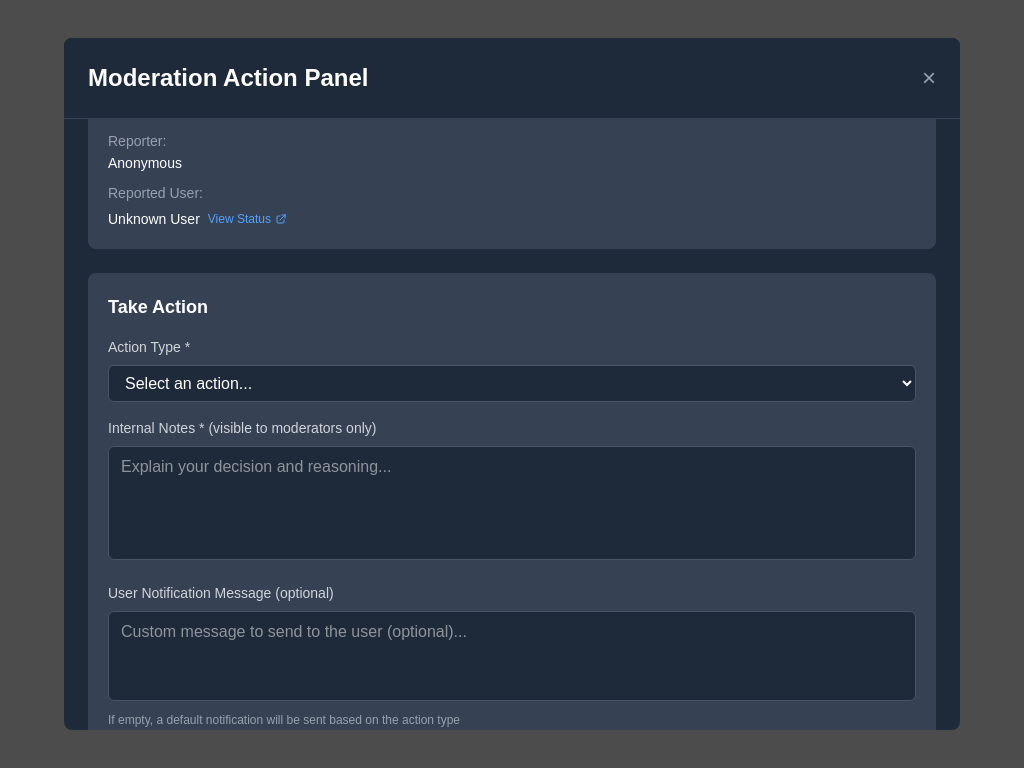
Test: ModerationActionPanel › Form Validation › should require internal notes
This screenshot has width=1024, height=768.
(page scrolled)
// Select an action
Select "Warn User" in the dropdown labelled "Action Type *": (512, 384) [108,365,916,402]
(page scrolled)
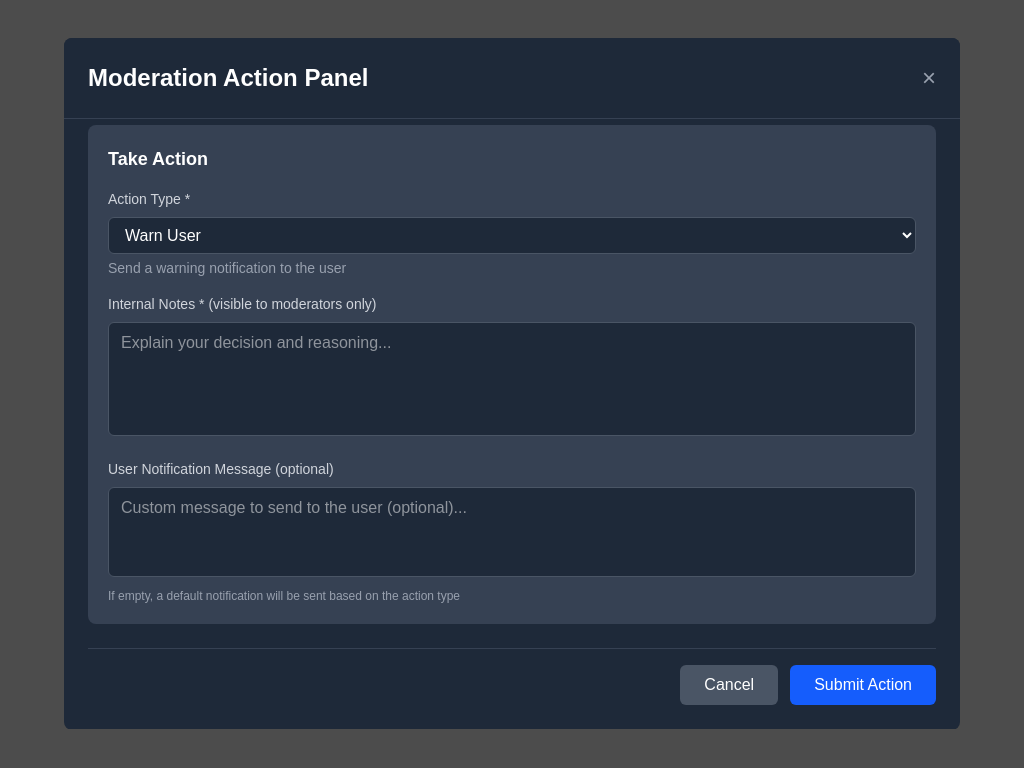
Click the button "Submit Action": (863, 685) [790,665,936,705]
(page scrolled)
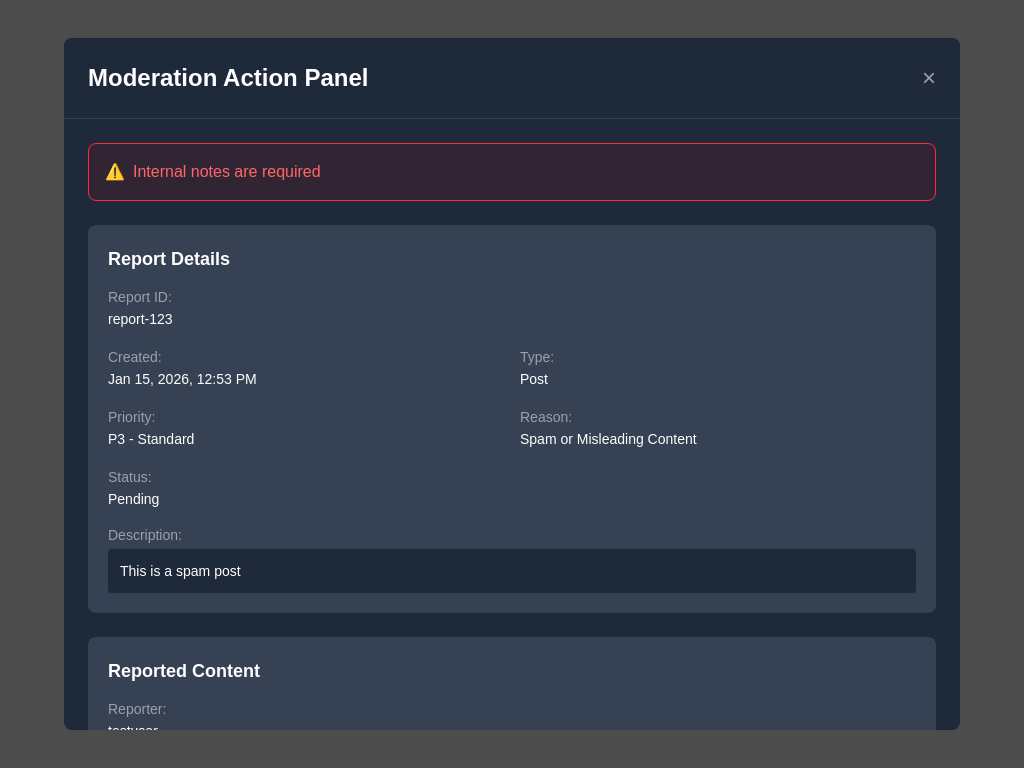
Expected: the text "Internal notes are required" is shown, [133,160,321,184]
